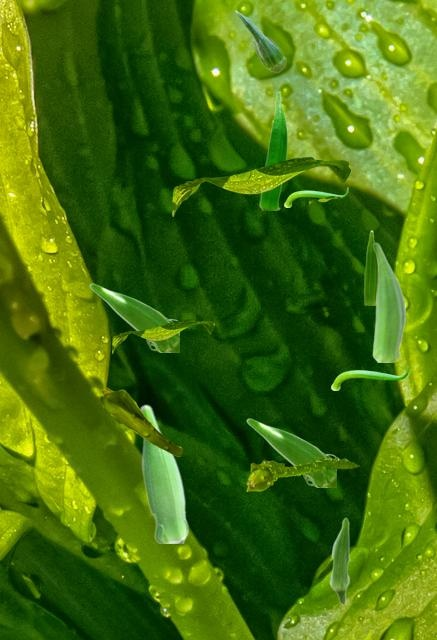okra: (140, 404, 187, 542), (89, 283, 178, 351), (246, 418, 335, 486), (372, 242, 405, 361), (259, 90, 287, 209), (235, 10, 285, 71), (331, 366, 407, 389), (329, 517, 349, 604), (284, 187, 347, 206), (364, 230, 376, 304)
